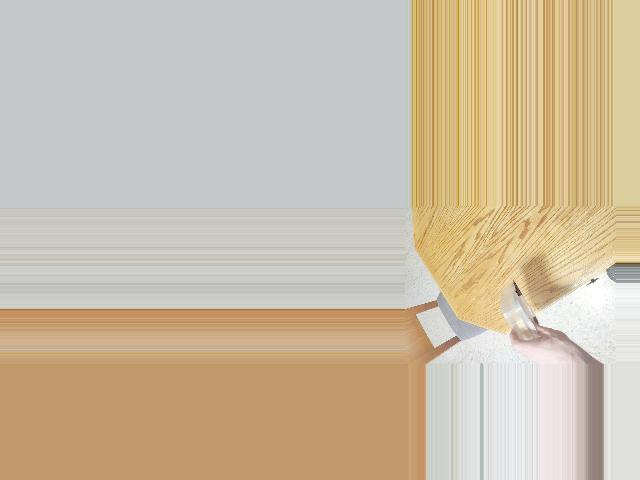cheese: (499, 282, 538, 343)
